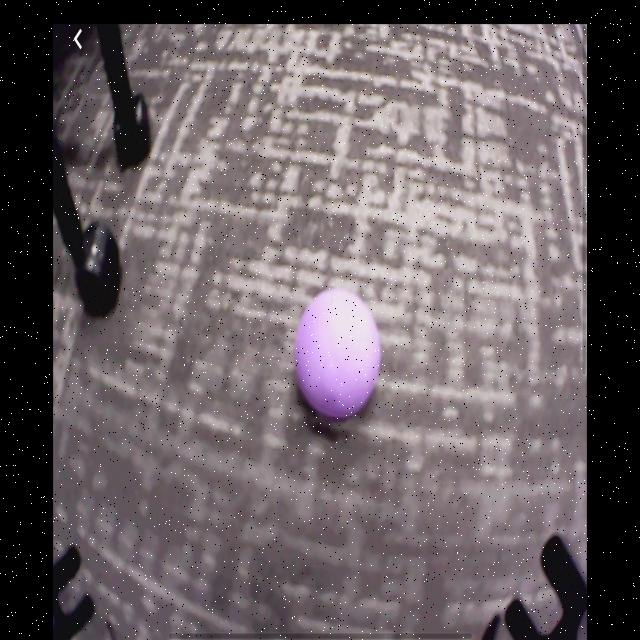ball: (294, 289, 383, 421)
